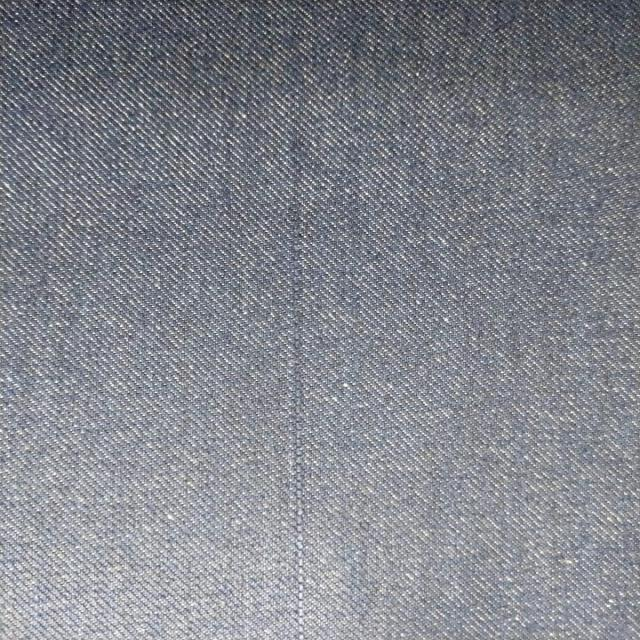Line: (289, 107, 308, 640)
